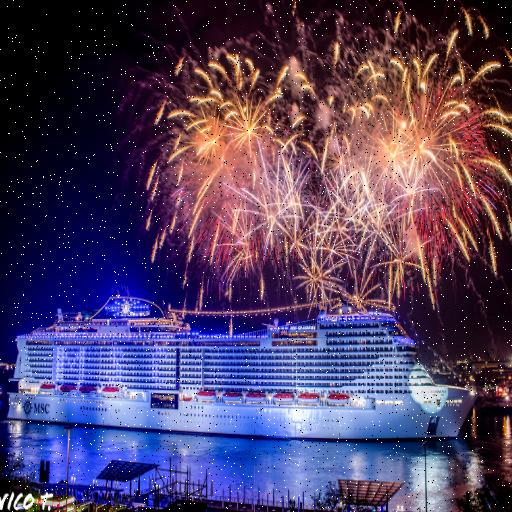cruises: (6, 272, 479, 452)
